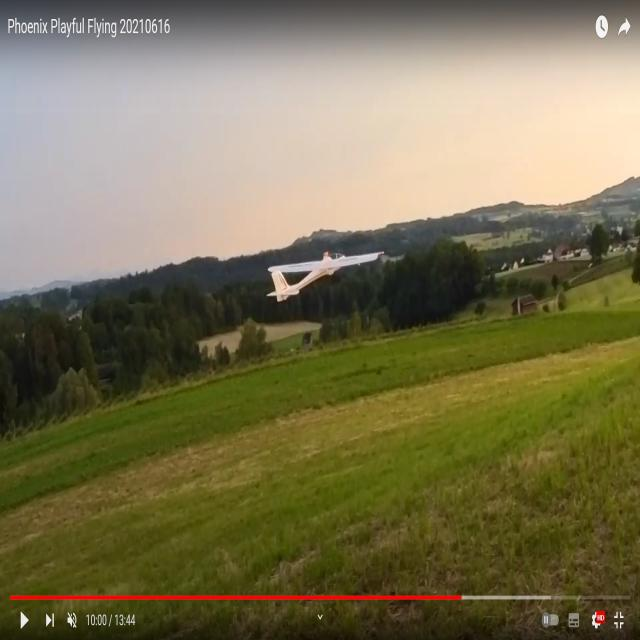iha: (290, 250, 351, 306)
